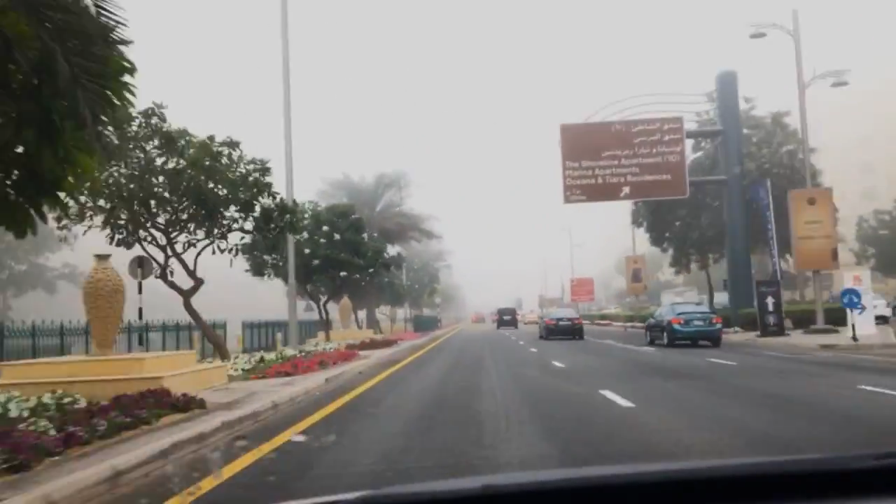car: (640, 300, 726, 350), (839, 286, 893, 328), (537, 308, 587, 342), (494, 307, 519, 330), (488, 310, 505, 324), (524, 312, 539, 326), (470, 310, 486, 323), (509, 310, 524, 323)
